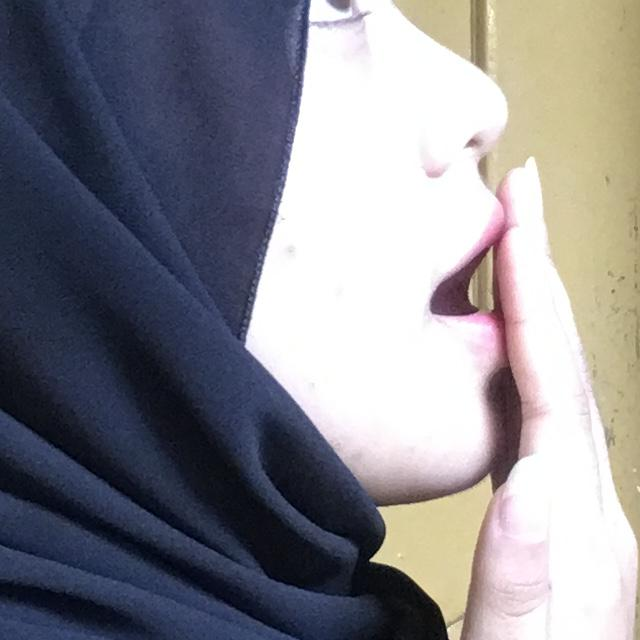ngantuk: (320, 116, 640, 640)
